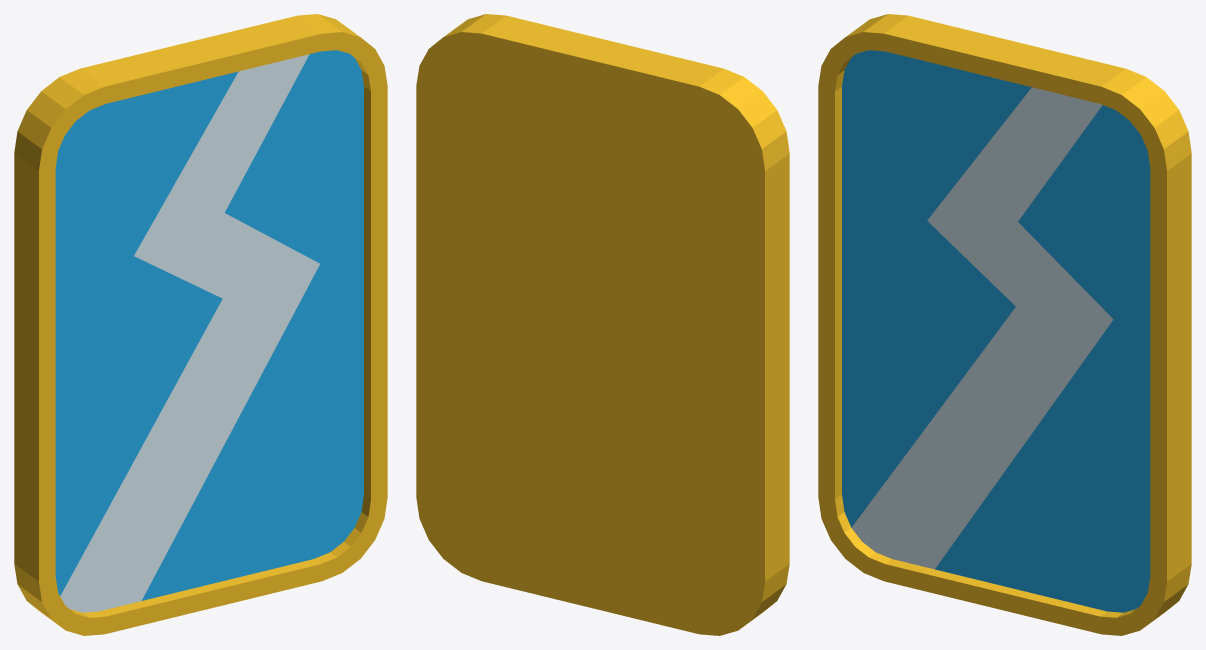
File: mirror.glb
3 renders of one model, left to right at view 1: azimuth 30°, elevation 25°; view 2: azimuth 150°, elevation 25°; view 3: azimuth 330°, elevation 25°, orthographic.
Parts seen in each view (by area): view 1: Cube.1008; view 2: Cube.1008; view 3: Cube.1008.
Boxes of the visible parts, x1,y1,x2,y2 form: Cube.1008: (14,14,387,635); Cube.1008: (416,14,789,635); Cube.1008: (818,14,1191,635).
Size of the model in its own units: 1.4 by 2.1 by 0.1712.
1 material, 1 textured.
